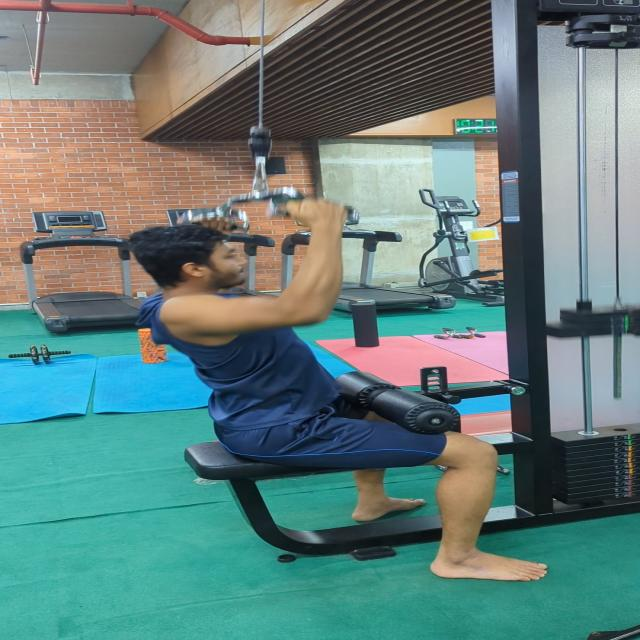Normal_LatPulldown: (77, 188, 578, 608)
